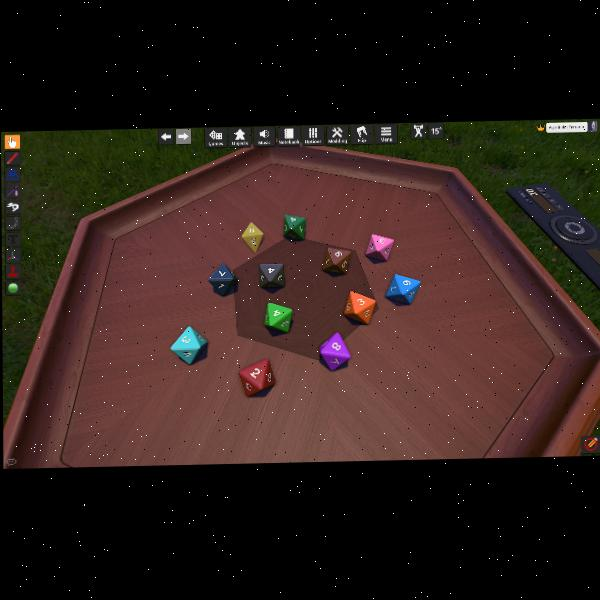d8: (171, 324, 208, 363), (239, 358, 275, 396), (319, 331, 348, 370), (385, 273, 418, 305), (344, 290, 375, 324), (208, 262, 236, 296), (264, 301, 293, 333), (364, 233, 392, 262), (323, 247, 349, 274), (242, 221, 264, 252), (259, 262, 285, 288), (283, 213, 304, 240)
